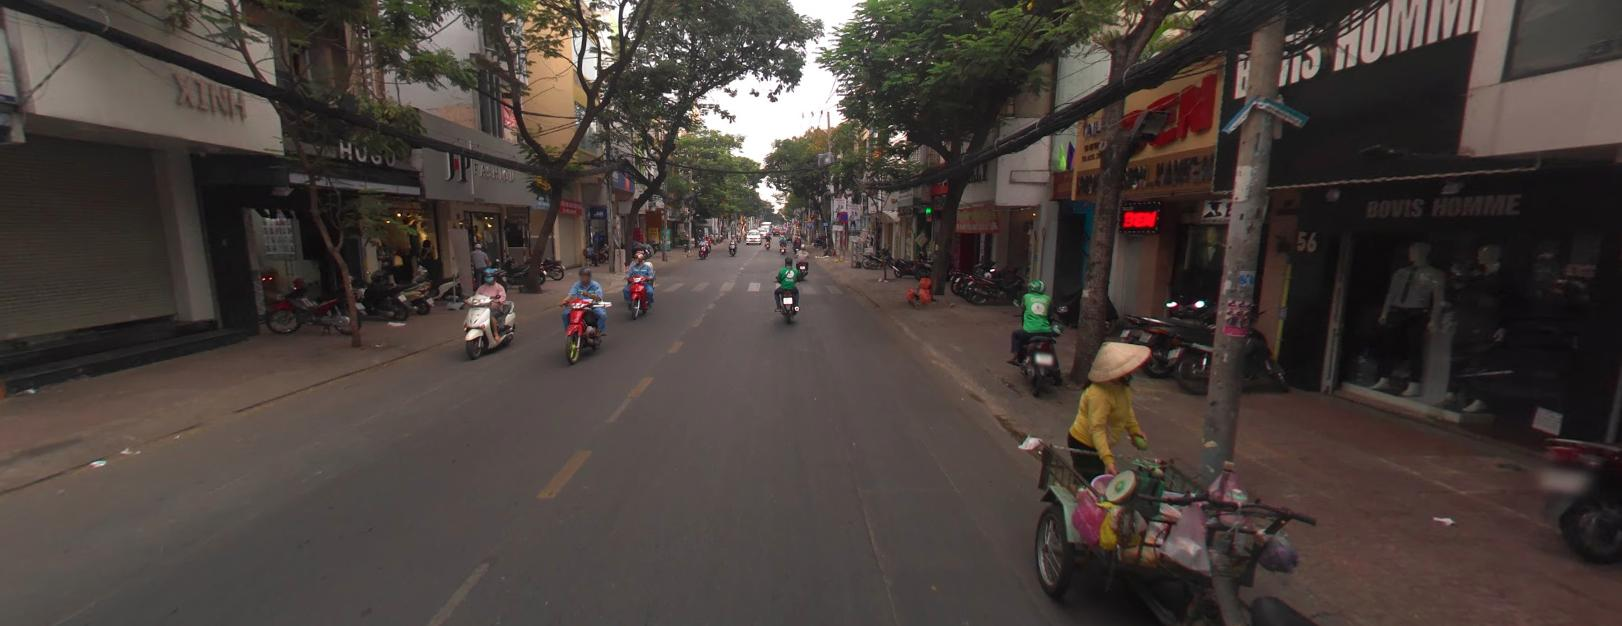Cam dung va do: (838, 210, 848, 221)
Nguy hiem: (806, 215, 812, 220)
